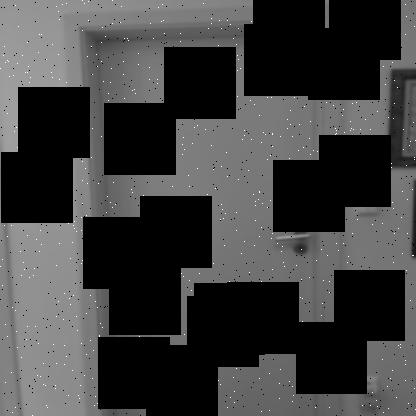Porte: (60, 0, 347, 415)
